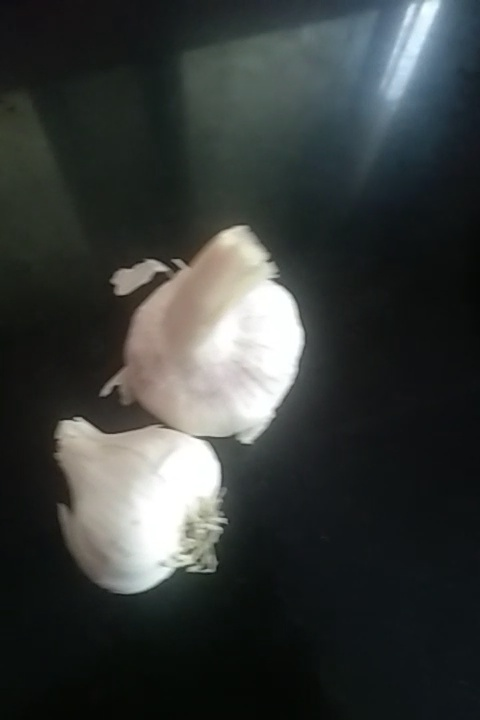garlic: (101, 245, 321, 436), (40, 414, 236, 600)
